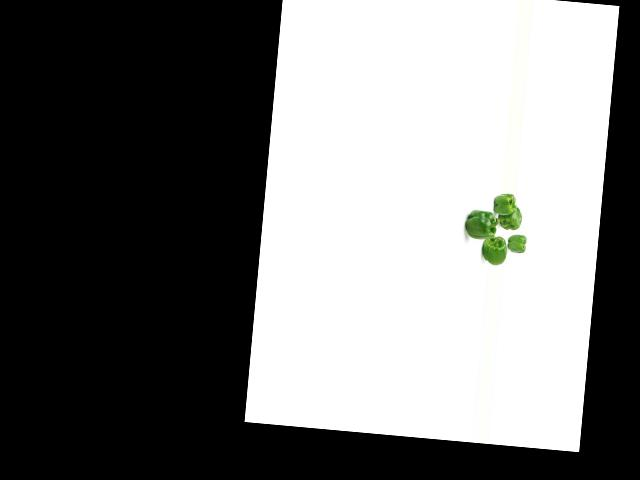bell_pepper: (490, 192, 516, 217)
